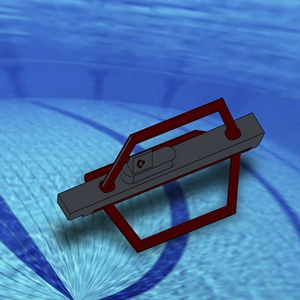submarine: (54, 58, 272, 262)
